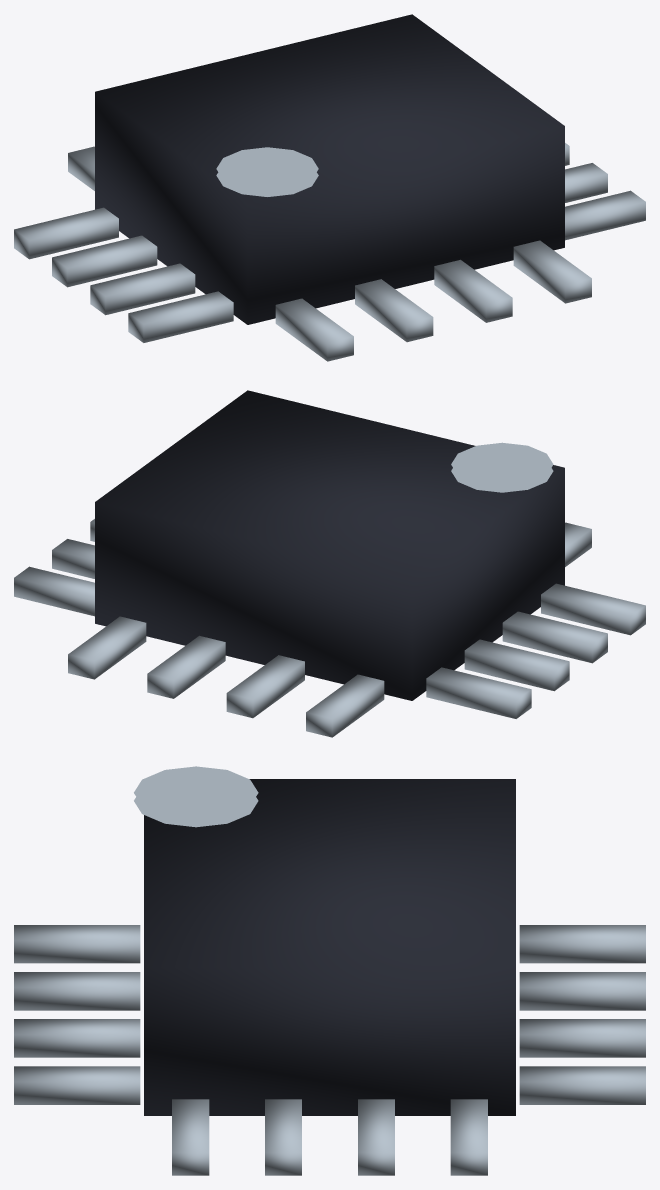
3 renders of one model, top to bottom at view 1: azimuth 30°, elevation 25°; view 2: azimuth 150°, elevation 25°; view 3: azimuth 270°, elevation 25°, orthographic. The views are drawn at different scales.
Parts seen in each view (by area): view 1: L105_D1_chip, L105_D1_silver; view 2: L105_D1_chip, L105_D1_silver; view 3: L105_D1_chip, L105_D1_silver.
Boxes of the visible parts, x1=… form: L105_D1_chip: x1=95, y1=14, x2=564, y2=324; L105_D1_silver: x1=14, y1=143, x2=645, y2=361; L105_D1_chip: x1=95, y1=390, x2=564, y2=700; L105_D1_silver: x1=14, y1=442, x2=645, y2=737; L105_D1_chip: x1=144, y1=779, x2=515, y2=1115; L105_D1_silver: x1=14, y1=766, x2=645, y2=1175.
Bounding box in the file's own units: 0.00475 × 0.00122 × 0.00425.
